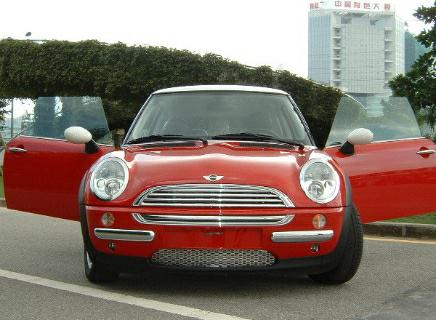MINI: (2, 92, 387, 281)
